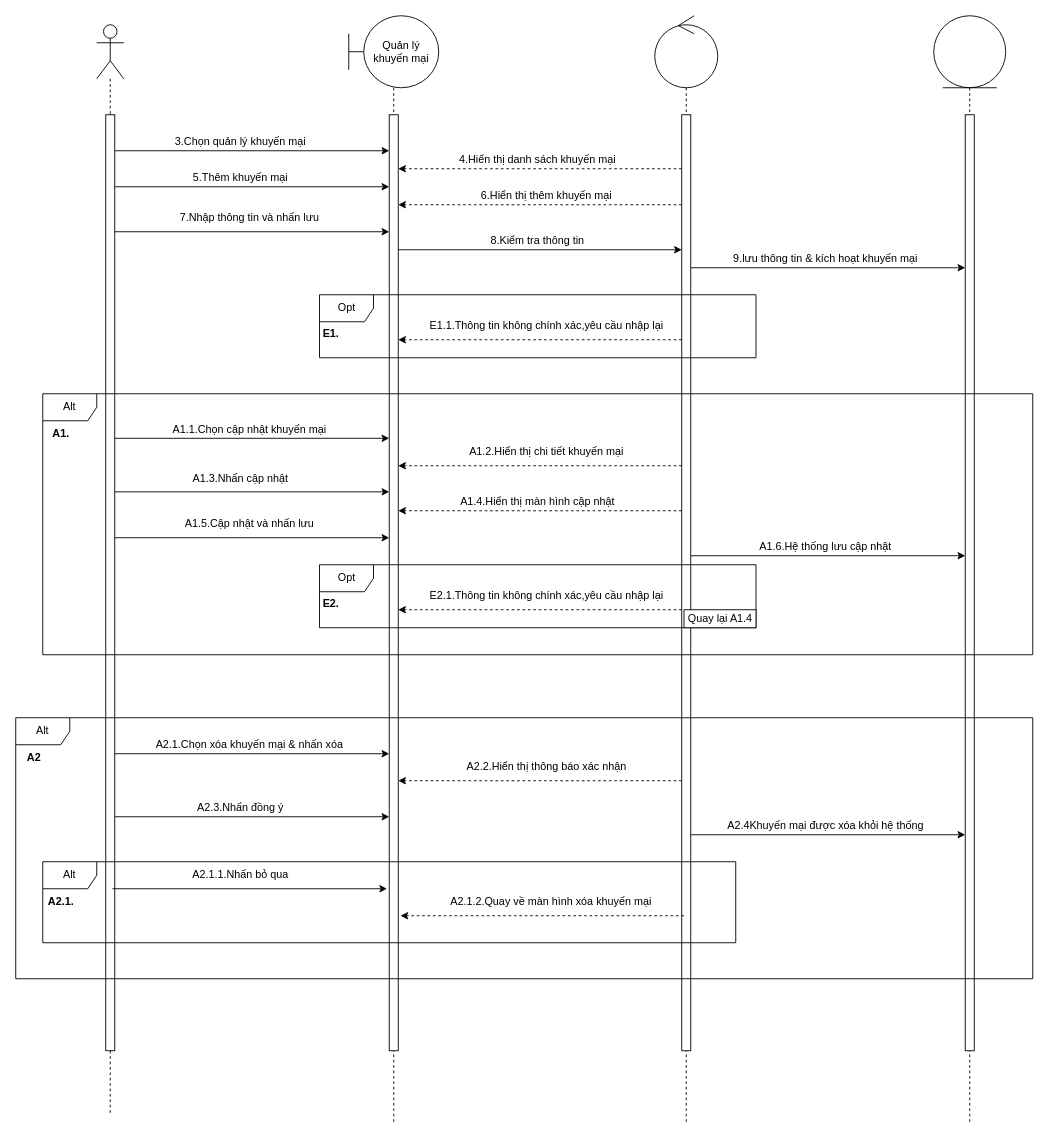
Image size: 1049x1139. Some labels were removed from this diagram. Each missing label, with the centre of its shape:
"Actor" goes at point (110, 51).
"Database" goes at point (969, 51).
"Xử lý" goes at point (686, 51).
